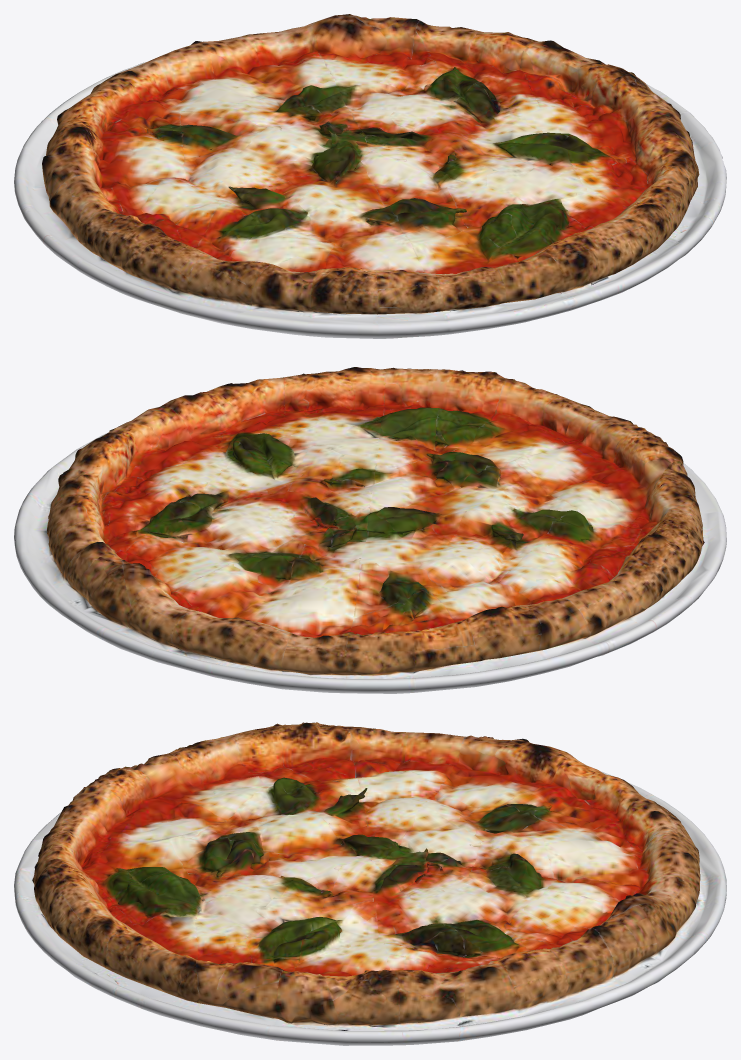
Rendered from margherita-pizza.glb.
The picture shows the model from 3 angles, top to bottom: view 1: azimuth 30°, elevation 25°; view 2: azimuth 150°, elevation 25°; view 3: azimuth 270°, elevation 25°; orthographic projection.
Visible parts, largest first — view 1: mesh_node; view 2: mesh_node; view 3: mesh_node.
Part boxes in pixels (x1,y1,x2,y2): mesh_node: (14,14,726,338); mesh_node: (14,367,726,693); mesh_node: (14,722,726,1045).
Size of the model in its own units: 0.2996 by 0.0311 by 0.3.
Materials: 1 (1 with a texture image).
